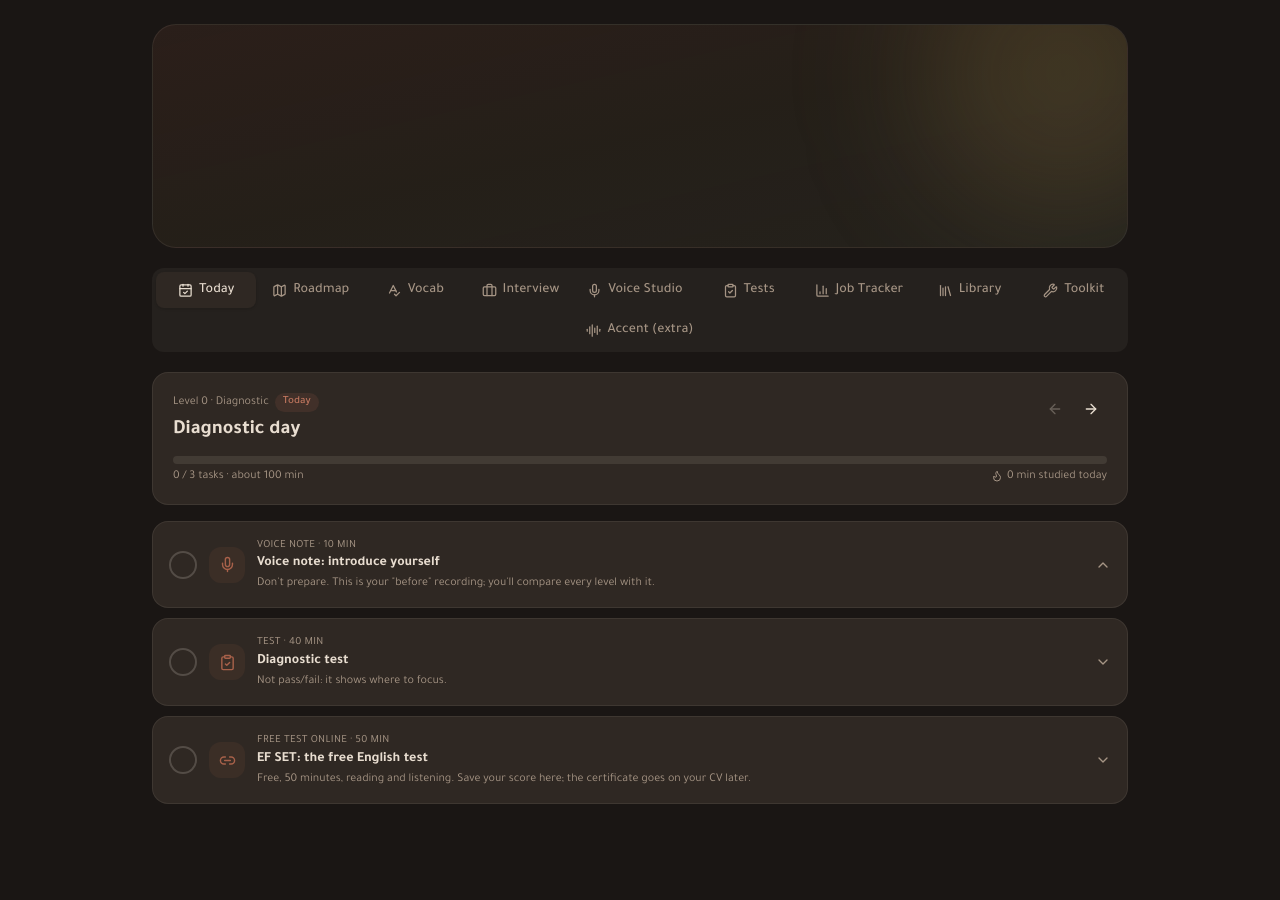
Call Center Prep › shows the levels on the roadmap, with 4 and 5 still to come
Click the tab "Roadmap".
click(311, 290)  # box x1=260 y1=272 x2=361 y2=308
(page scrolled)
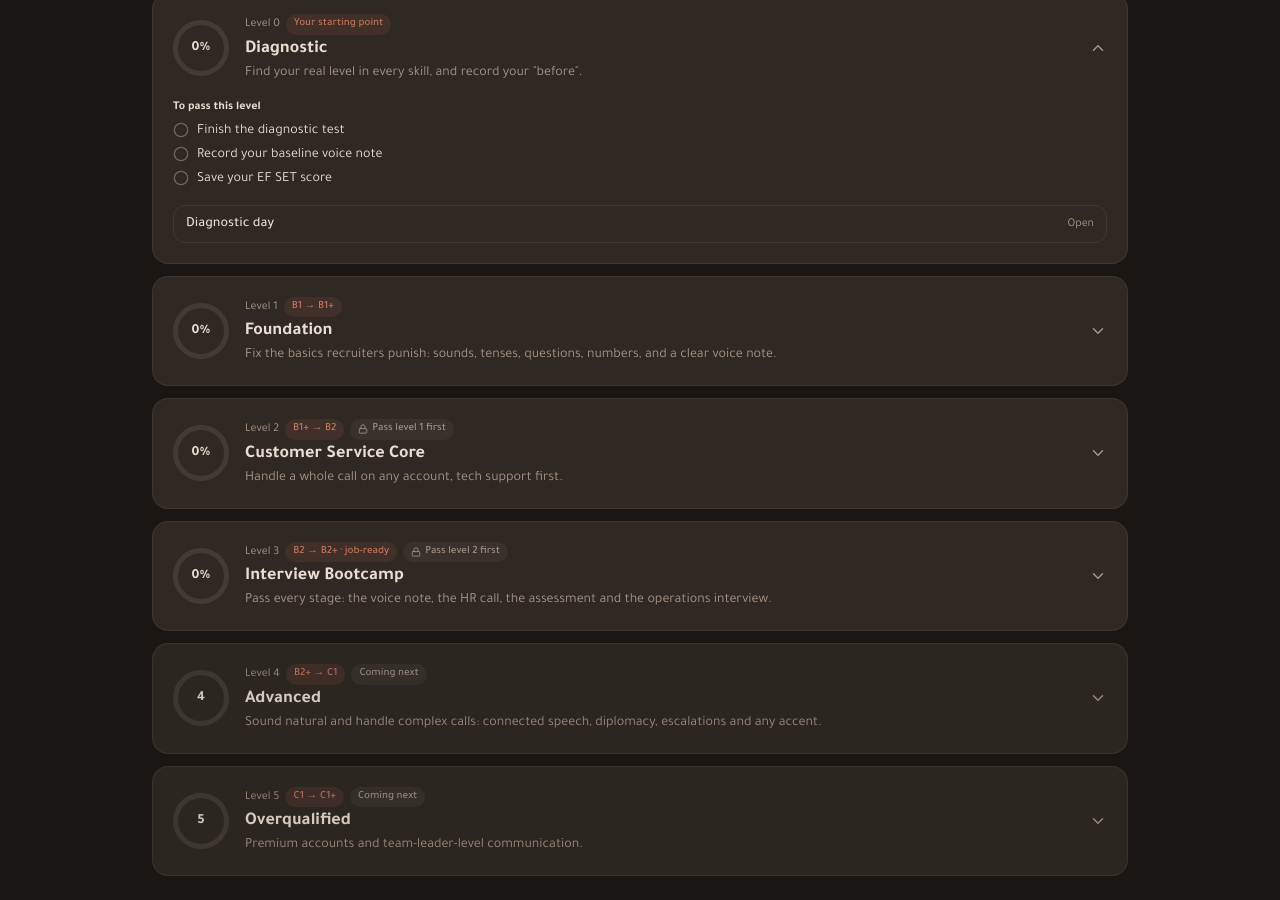
Expected: the text "Foundation" is shown, x1=245 y1=322 x2=332 y2=340
Expected: the text "Customer Service Core" is shown, x1=245 y1=444 x2=425 y2=462
Expected: the text "Interview Bootcamp" is shown, x1=245 y1=567 x2=404 y2=585
